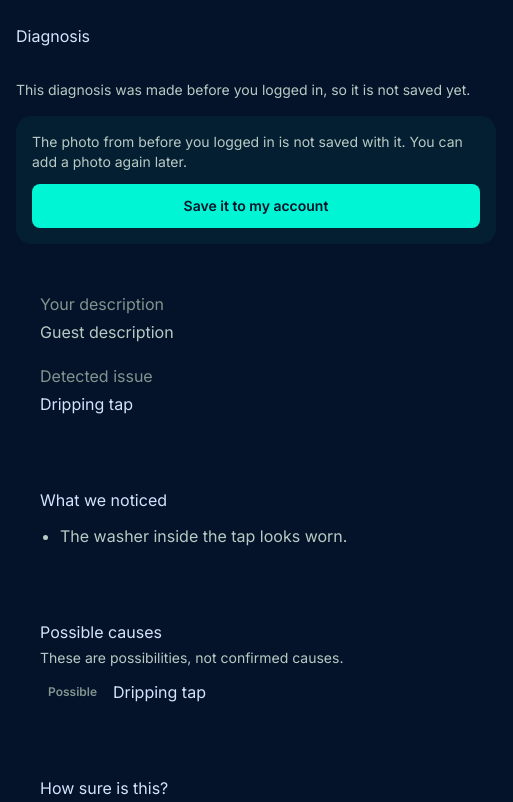
it: a result made as a guest, after logging in › is shown with a "save to my account" choice and nothing is saved until it is chosen
This screenshot has width=513, height=802.
Check: the text "This diagnosis was made before you logged in, so it is not saved yet." is shown, box [16,80,496,100]
Check: the text "Dripping tap" below "Detected issue" is shown, box [40,394,133,414]
Click the button "Save it to my account": point(256, 206) [32,184,480,228]
(page scrolled)
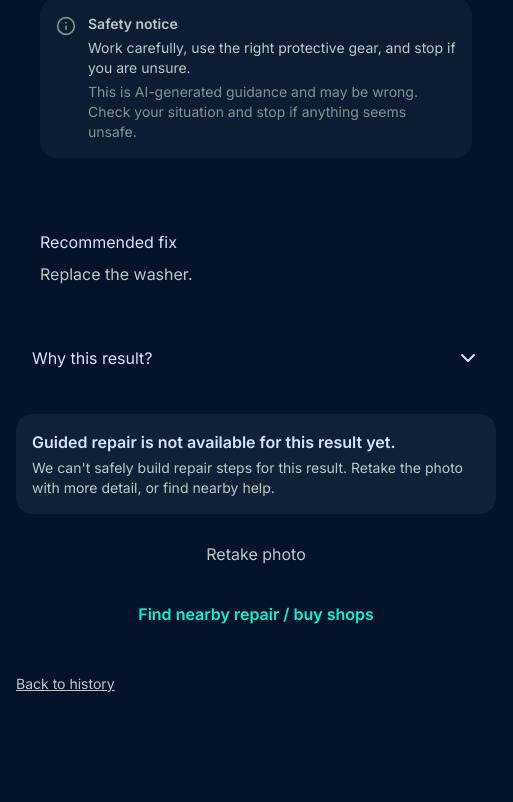
Check: the link "Back to history" is shown, box [16,675,115,692]
